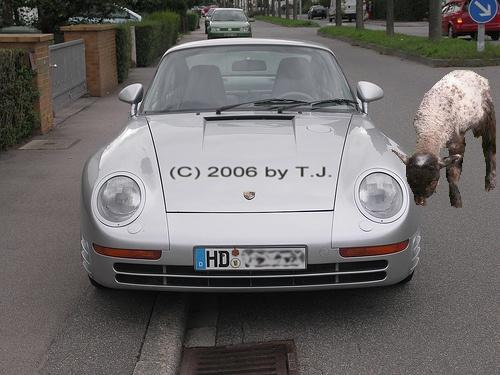tampered: (392, 71, 496, 208)
